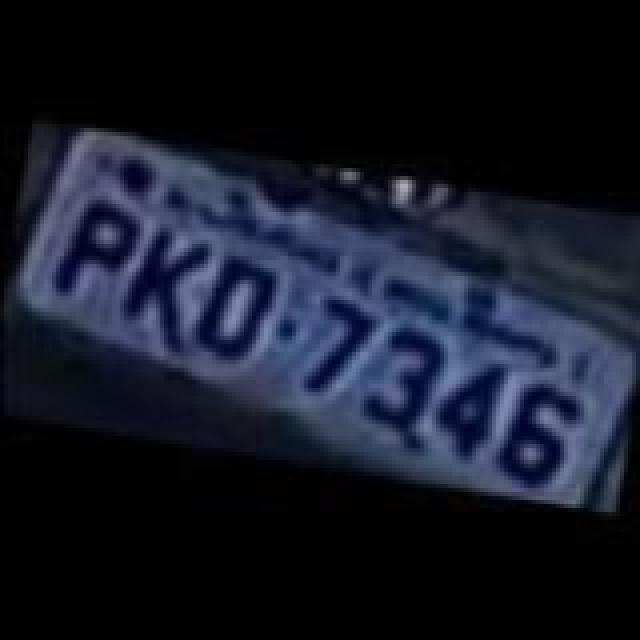3: (352, 322, 448, 442)
4: (420, 346, 508, 462)
6: (486, 378, 586, 498)
7: (296, 292, 380, 404)
K: (108, 216, 216, 344)
O: (184, 252, 284, 372)
P: (48, 194, 144, 306)
